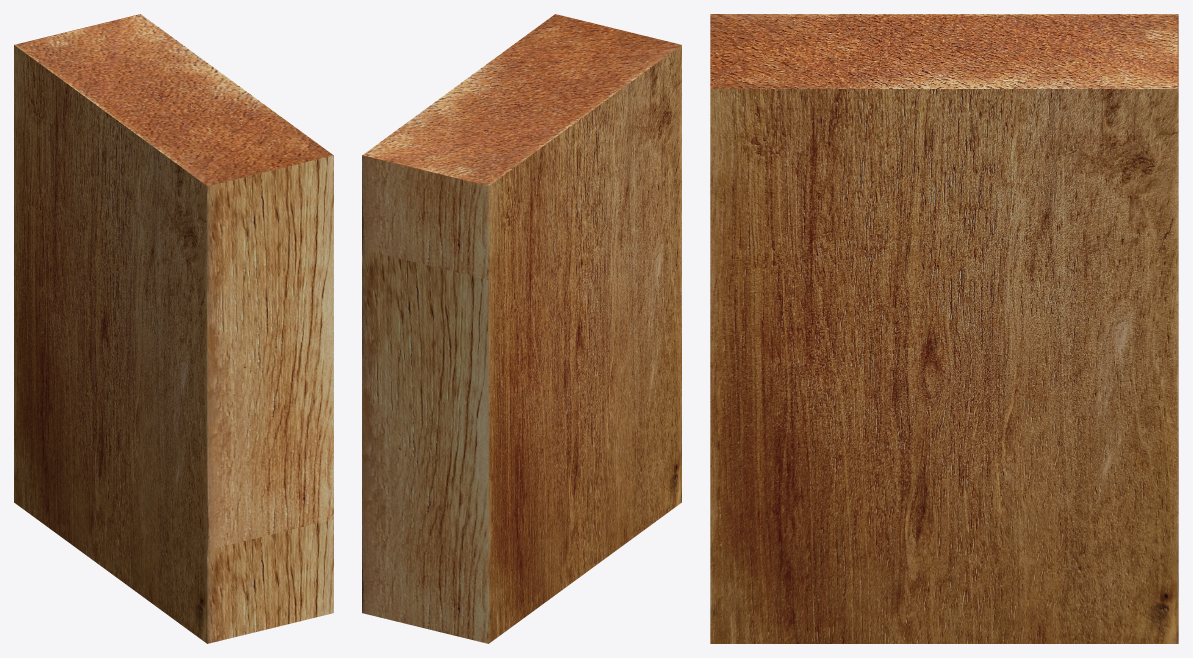
File: nyatuh.glb
3 views of the same model, side by side, from view 1: azimuth 30°, elevation 25°; view 2: azimuth 150°, elevation 25°; view 3: azimuth 270°, elevation 25° (orthographic). The views are drawn at different scales.
Parts seen in each view (by area): view 1: BothSides; view 2: BothSides; view 3: BothSides.
Boxes of the visible parts, x1=… form: BothSides: x1=14, y1=14, x2=333, y2=643; BothSides: x1=362, y1=14, x2=681, y2=643; BothSides: x1=710, y1=14, x2=1178, y2=643.
Bounding box in the file's own units: 1.87 × 6.45 × 4.93.
Materials: 3 (3 with a texture image).
